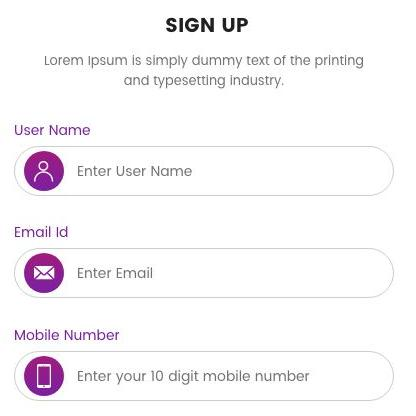field: (12, 143, 395, 198), (13, 245, 395, 299), (15, 348, 394, 402)
field_with_label: (9, 121, 400, 201), (11, 327, 398, 403), (11, 227, 397, 302)
